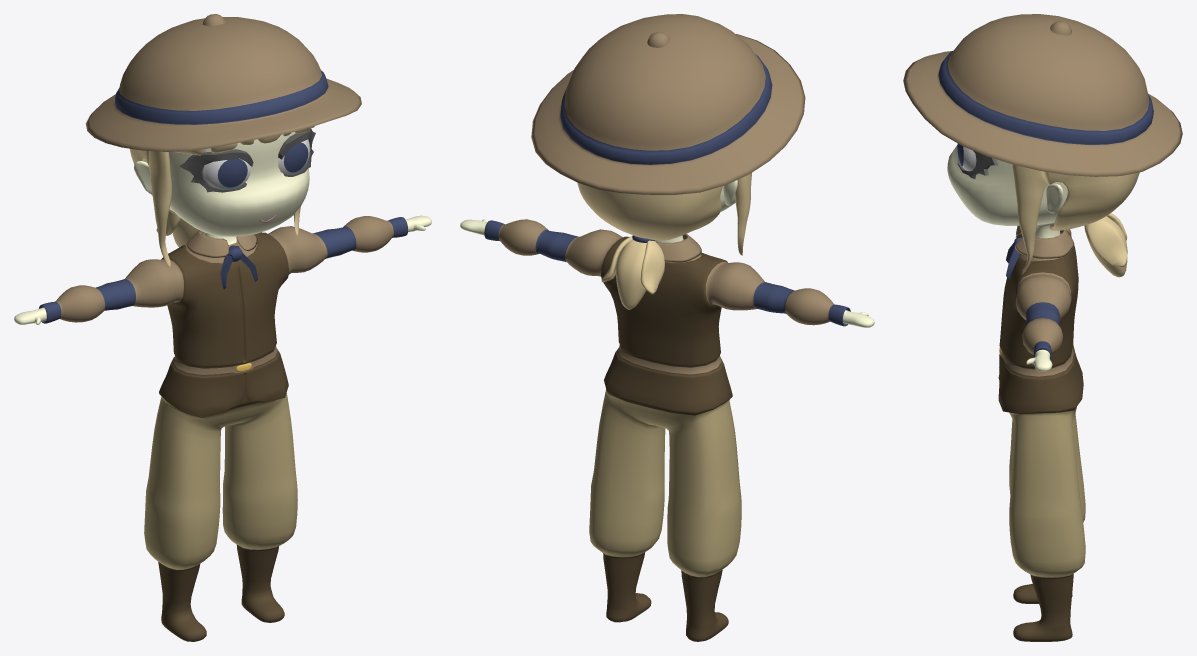
File: archeologuefbx.fbx
The picture shows the model from 3 angles, left to right: view 1: azimuth 30°, elevation 25°; view 2: azimuth 150°, elevation 25°; view 3: azimuth 270°, elevation 25°; orthographic projection.
Parts seen in each view (by area): view 1: pCylinder2, pCube23, pSphere4, pPlane14, pSphere5, pSphere6, pCube26, pCube25; view 2: pCylinder2, pCube23, pSphere4, pCube26; view 3: pCylinder2, pCube23, pSphere4, pCube26, pPlane14.
Part boxes in pixels (x1,y1,x2,y2): pCylinder2: (14, 132, 431, 641); pCube23: (86, 14, 361, 151); pSphere4: (130, 127, 310, 267); pPlane14: (179, 127, 315, 192); pSphere5: (218, 142, 308, 187); pSphere6: (202, 139, 310, 189); pCube26: (156, 211, 198, 247); pCube25: (220, 245, 257, 289); pCylinder2: (460, 180, 874, 641); pCube23: (531, 14, 805, 194); pSphere4: (577, 173, 751, 255); pCube26: (601, 236, 664, 309); pCylinder2: (947, 145, 1085, 641); pCube23: (903, 14, 1182, 176); pSphere4: (1012, 164, 1139, 274); pCube26: (1084, 213, 1127, 277); pPlane14: (957, 150, 998, 178).
Bounding box in the file's own units: 4.11 × 5.69 × 2.41.
